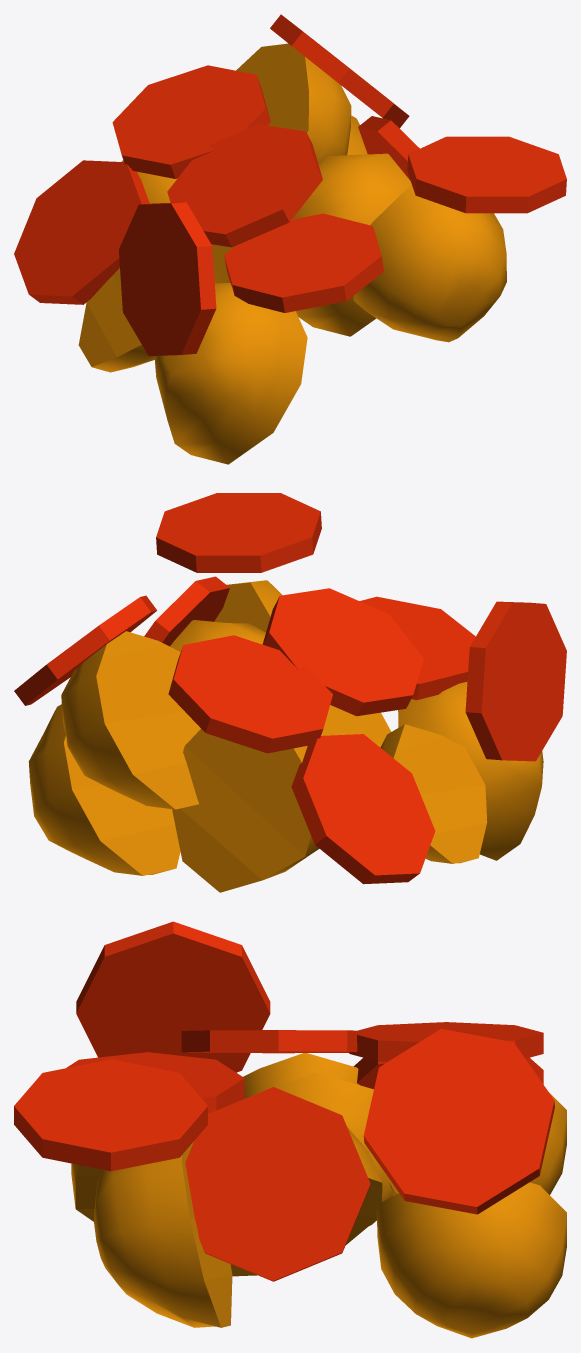
File: salchipapa.fbx
3 views of the same model, one above another, from view 1: azimuth 30°, elevation 25°; view 2: azimuth 150°, elevation 25°; view 3: azimuth 270°, elevation 25° (orthographic). The views are drawn at different scales.
Visible parts, largest first — view 1: polySurface38; view 2: polySurface38; view 3: polySurface38.
Boxes of the visible parts, x1,y1,x2,y2 form: polySurface38: (14, 14, 566, 464); polySurface38: (14, 493, 566, 892); polySurface38: (14, 921, 566, 1338).
Bounding box in the file's own units: 1.36 × 0.9514 × 1.43.
